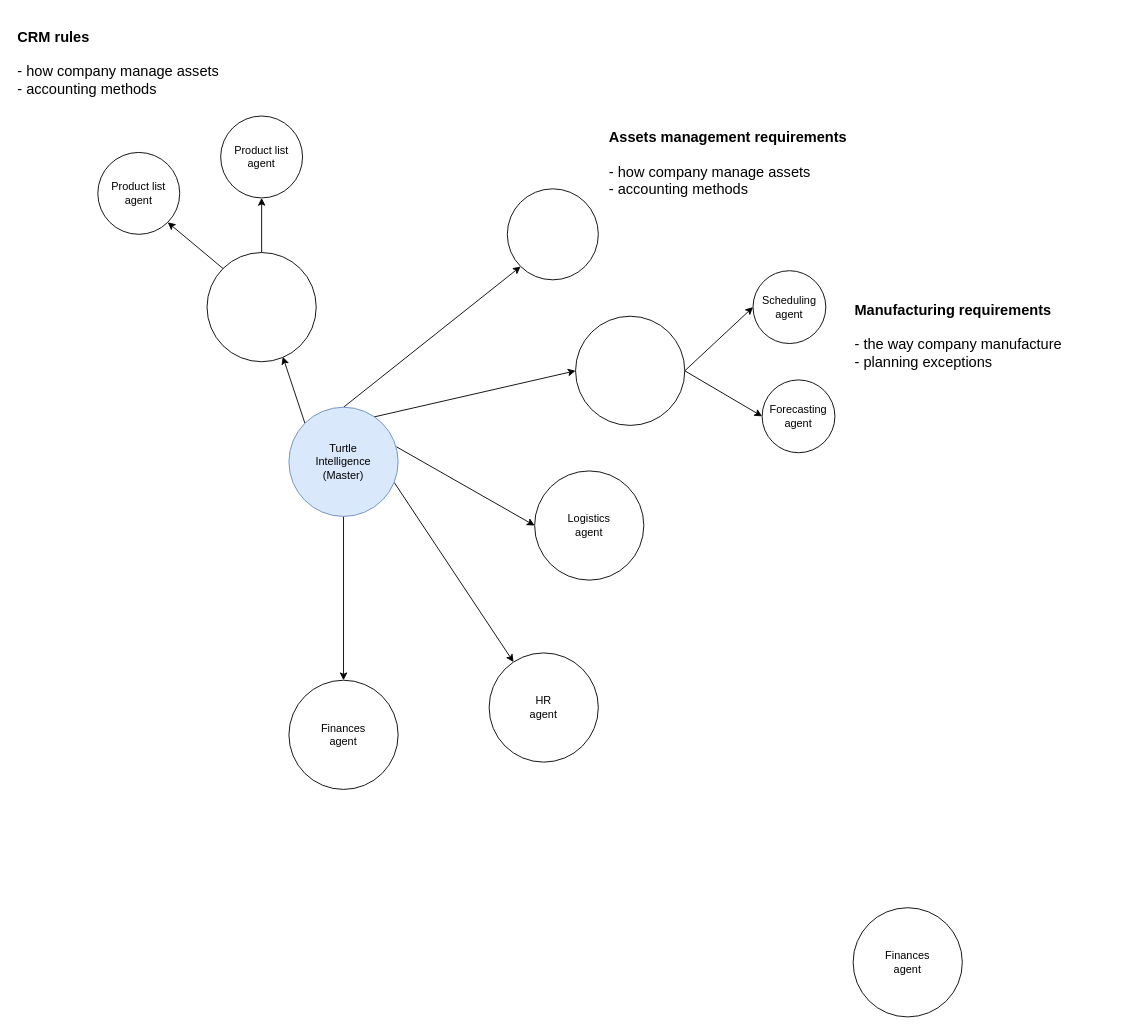
The diagram is 1132 pixels wide and 1033 high, and some of its shapes have lost their labels. The centre of each missing label's shape, as x and y in pixels:
"Assets management agent" belongs at [552,234].
"CRM agent" belongs at [261,307].
"Manufacturing agent" belongs at [630,370].
